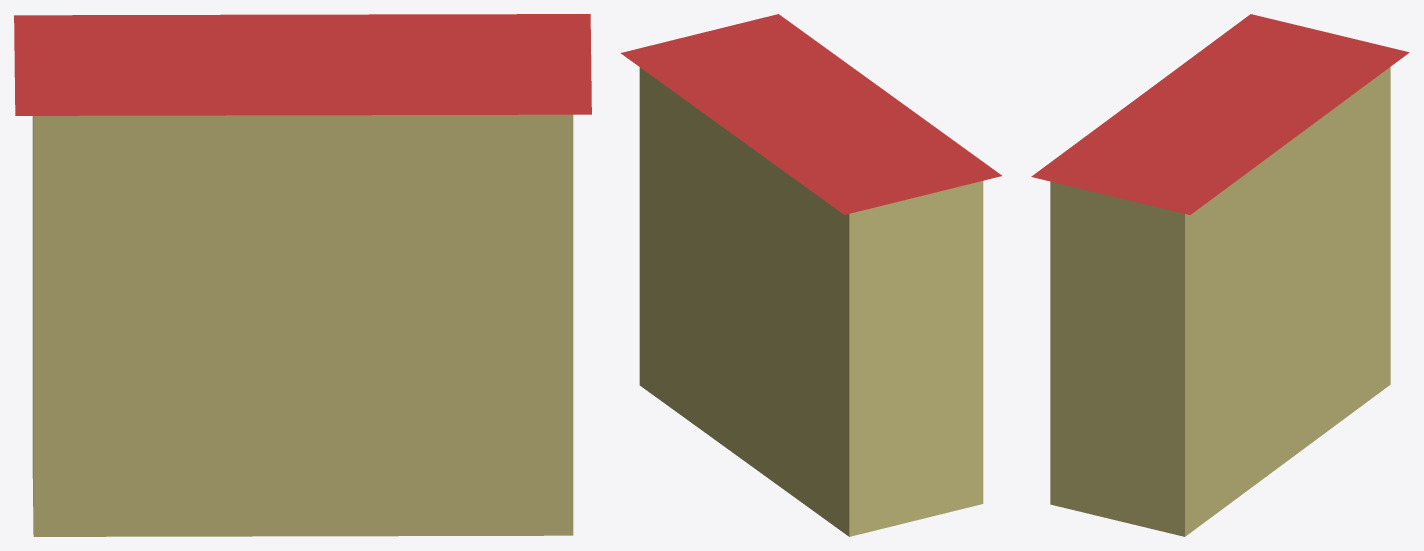
3 renders of one model, left to right at view 1: azimuth 30°, elevation 25°; view 2: azimuth 150°, elevation 25°; view 3: azimuth 270°, elevation 25°, orthographic. The views are drawn at different scales.
Visible parts, largest first — view 1: group_5, group_3, group_4; view 2: group_5, group_3, group_4; view 3: group_5, group_3, group_4.
Boxes of the visible parts, bbox=[...] form: group_5: bbox=[32, 114, 573, 536]; group_3: bbox=[14, 14, 591, 115]; group_4: bbox=[14, 14, 591, 115]; group_5: bbox=[639, 67, 983, 536]; group_3: bbox=[621, 14, 1001, 214]; group_4: bbox=[623, 14, 1001, 214]; group_5: bbox=[1050, 67, 1390, 536]; group_3: bbox=[1032, 14, 1409, 214]; group_4: bbox=[1031, 14, 1408, 214].
Bounding box in the file's own units: 8.45 × 6.73 × 6.46.
